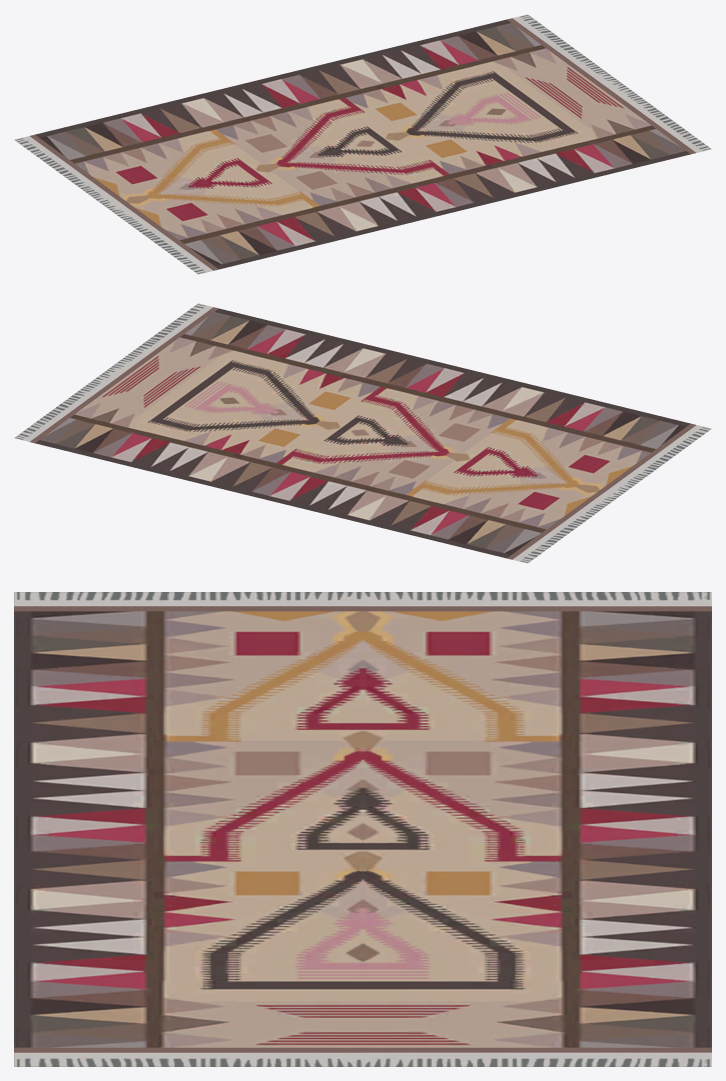
The model's file is my_military_01_carpet_02.glb.
The picture shows the model from 3 angles, top to bottom: view 1: azimuth 30°, elevation 25°; view 2: azimuth 150°, elevation 25°; view 3: azimuth 270°, elevation 25°; orthographic projection. The views are drawn at different scales.
Parts seen in each view (by area): view 1: my_military_01_carpet_02; view 2: my_military_01_carpet_02; view 3: my_military_01_carpet_02.
Boxes of the visible parts, x1,y1,x2,y2 form: my_military_01_carpet_02: [14, 14, 711, 274]; my_military_01_carpet_02: [14, 303, 711, 563]; my_military_01_carpet_02: [14, 592, 711, 1066].
Size of the model in its own units: 0.0185 by 0 by 0.0115.
Materials: 1 (1 with a texture image).
